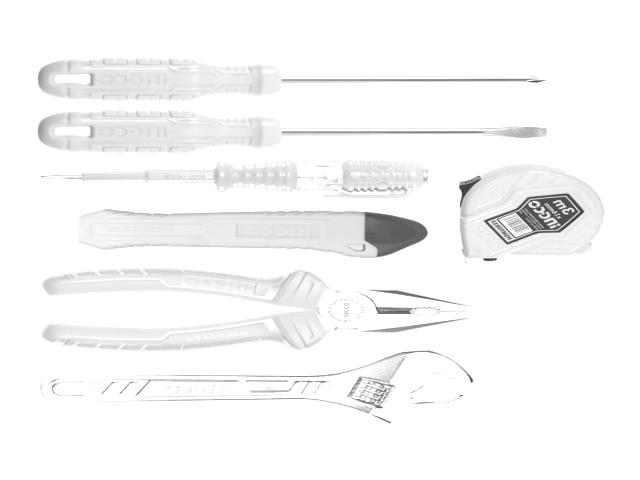Adjustable spanner: (41, 352, 472, 422)
Pliers: (43, 268, 471, 351)
Screwdriver: (40, 110, 547, 154), (40, 57, 544, 101), (41, 159, 428, 199)
Tape measure: (459, 164, 603, 261)
Utility knife: (41, 209, 428, 257)
